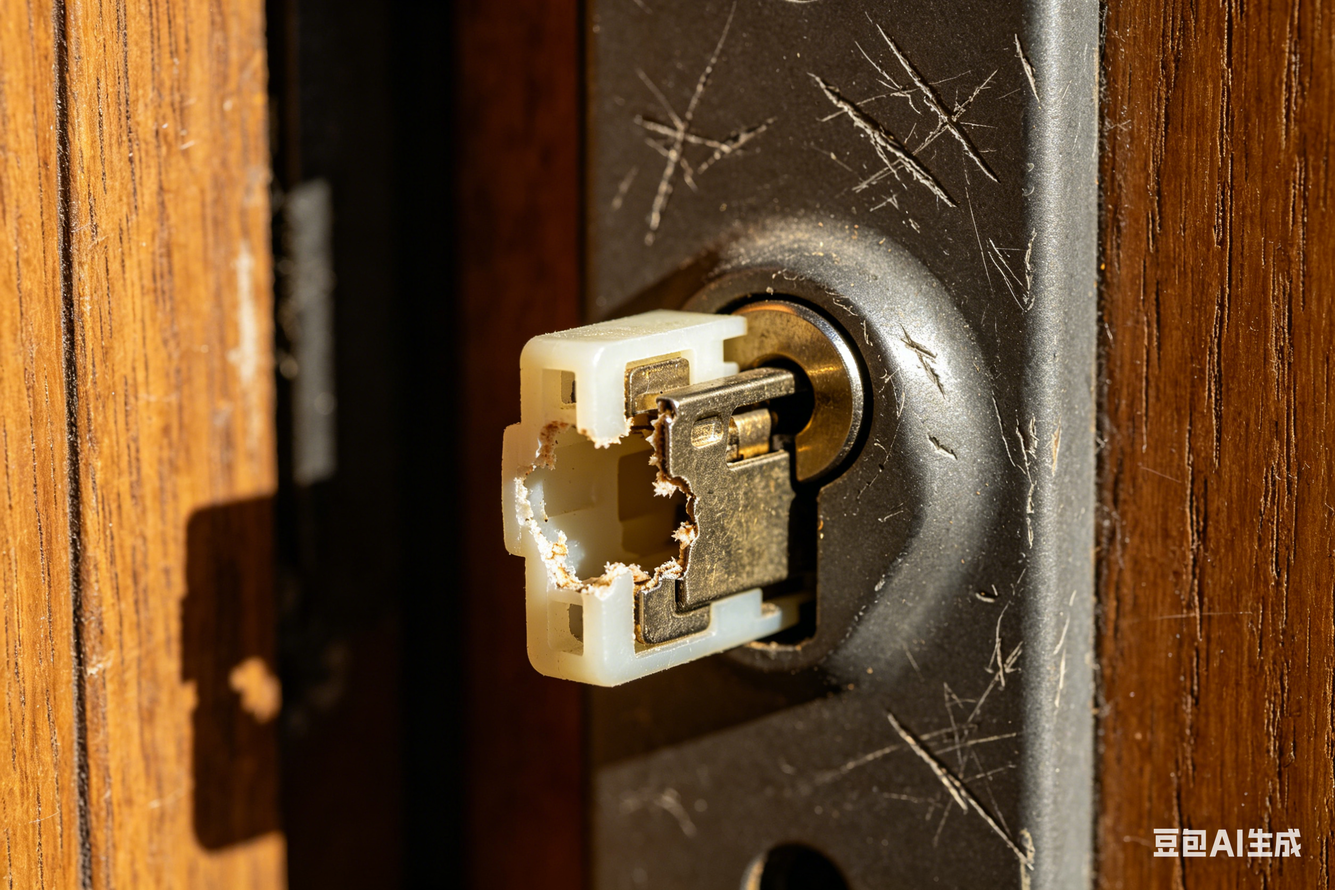BadLock: (522, 345, 732, 657)
